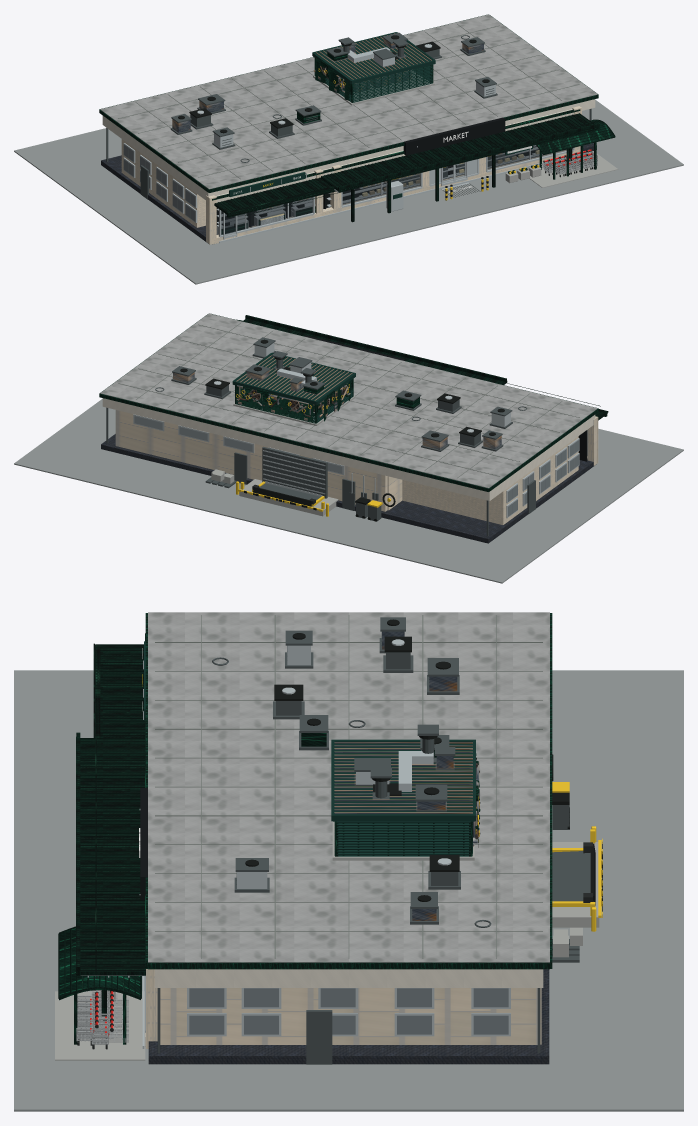
Rendered from supermarket-strip.glb.
3 renders of one model, top to bottom at view 1: azimuth 30°, elevation 25°; view 2: azimuth 150°, elevation 25°; view 3: azimuth 270°, elevation 25°, orthographic. The views are drawn at different scales.
Visible parts, largest first — view 1: roof membrane, lot apron, main canopy slab, hall render parapet, plant enclosure metal lid, MARKET black sign mass, strip awning, strip wing brick, strip shop glass, roof edge front, main canopy fascia, plinth (+16 smaller); view 2: roof membrane, lot apron, hall brick rear wall A30, hall render parapet, plinth, strip wing brick, roller shutter, roof edge rear, plant enclosure metal lid, main canopy fascia, main canopy slab, loading dock pad (+5 smaller); view 3: roof membrane, lot apron, main canopy slab, hall brick west wall A30, plinth, hall render parapet, plant enclosure metal lid, trolley bay slab, strip awning, roof edge left, trolley bay barrel roof, loading dock leveler plate (+16 smaller).
Boxes of the visible parts, x1,y1,x2,y2 form: roof membrane: [100, 14, 597, 189]; lot apron: [14, 100, 683, 284]; main canopy slab: [320, 113, 598, 192]; hall render parapet: [102, 99, 595, 199]; plant enclosure metal lid: [315, 36, 432, 79]; MARKET black sign mass: [403, 117, 505, 155]; strip awning: [214, 178, 333, 215]; strip wing brick: [121, 139, 205, 227]; strip shop glass: [218, 197, 312, 235]; roof edge front: [209, 94, 598, 192]; main canopy fascia: [338, 123, 599, 191]; plinth: [101, 143, 596, 244]; roof membrane: [100, 313, 597, 488]; lot apron: [14, 399, 683, 583]; hall brick rear wall A30: [115, 410, 387, 511]; hall render parapet: [102, 398, 595, 500]; plinth: [101, 434, 596, 543]; strip wing brick: [402, 436, 578, 524]; roller shutter: [262, 446, 327, 498]; roof edge rear: [99, 393, 488, 491]; plant enclosure metal lid: [235, 354, 352, 400]; main canopy fascia: [245, 315, 506, 383]; main canopy slab: [243, 319, 505, 384]; loading dock pad: [239, 479, 338, 516]; roof membrane: [148, 612, 549, 962]; lot apron: [14, 670, 683, 1111]; main canopy slab: [77, 739, 145, 975]; hall brick west wall A30: [160, 988, 537, 1044]; plinth: [148, 969, 549, 1064]; hall render parapet: [154, 969, 543, 987]; plant enclosure metal lid: [334, 741, 472, 814]; trolley bay slab: [55, 991, 145, 1060]; strip awning: [95, 645, 144, 737]; roof edge left: [148, 962, 549, 969]; trolley bay barrel roof: [59, 928, 140, 1000]; loading dock leveler plate: [552, 851, 590, 901].
Size of the model in its own units: 38 by 7.26 by 24.5.
Materials: 32 (9 with a texture image).
